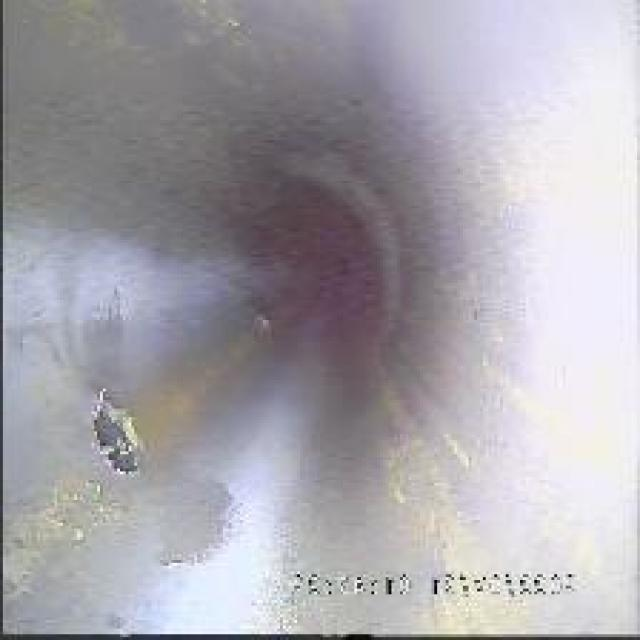ferrule: (60, 388, 160, 483)
